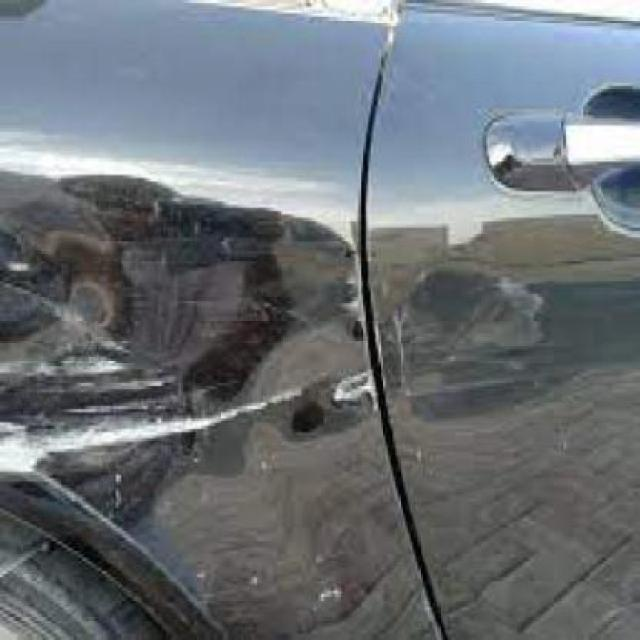quaterpanel-dent: (0, 151, 393, 478)
